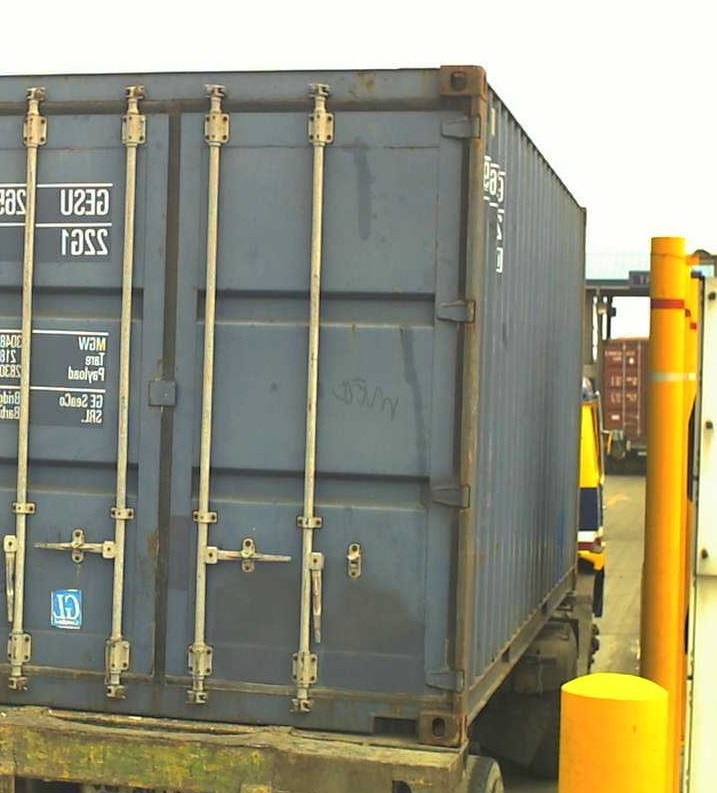container_door: (2, 60, 479, 753)
